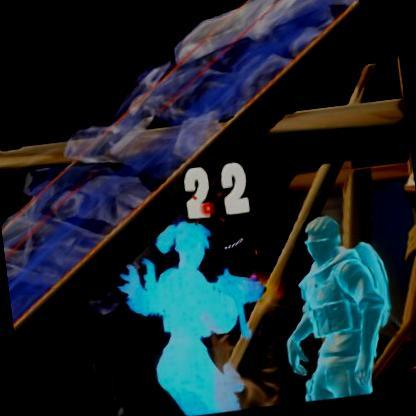person: (272, 207, 402, 402)
